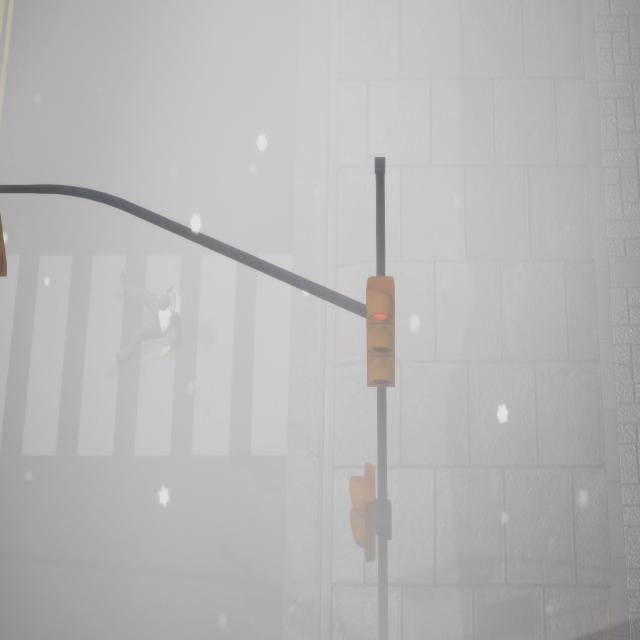Human: (112, 261, 192, 390)
